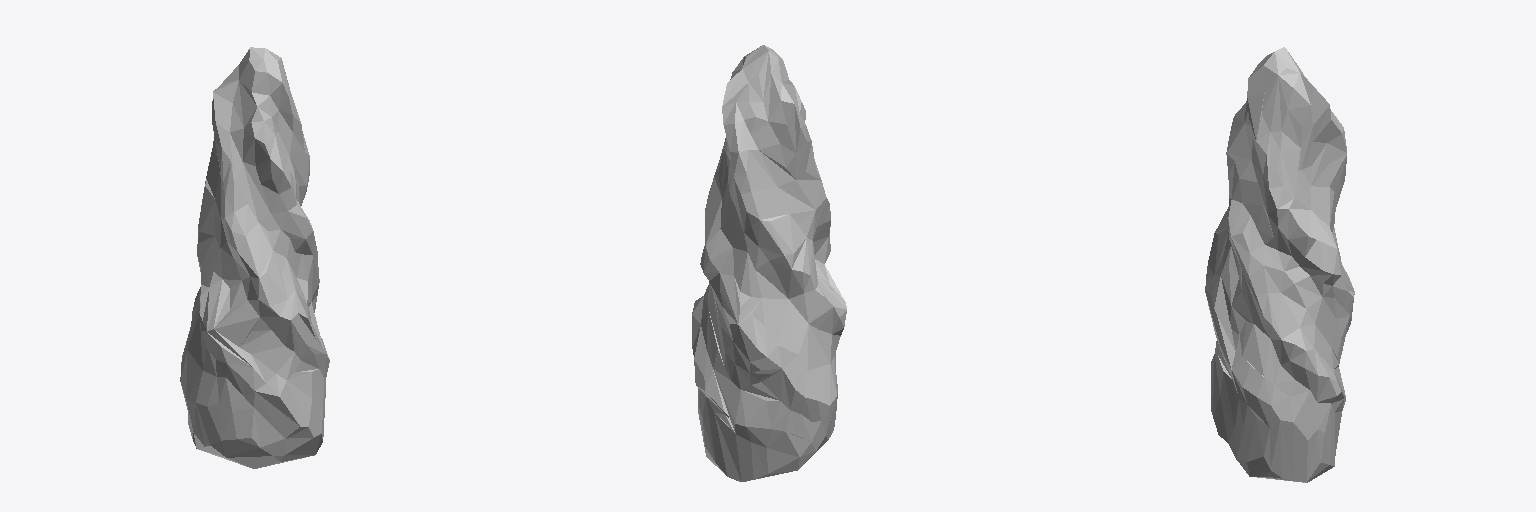
Rendered from Rock03.obj.
3 renders of one model, left to right at view 1: azimuth 30°, elevation 25°; view 2: azimuth 150°, elevation 25°; view 3: azimuth 270°, elevation 25°, orthographic.
Parts seen in each view (by area): view 1: Cube.001; view 2: Cube.001; view 3: Cube.001.
Part boxes in pixels (bbox=[...]): Cube.001: bbox=[180, 47, 329, 468]; Cube.001: bbox=[692, 45, 846, 481]; Cube.001: bbox=[1205, 47, 1354, 482].
Size of the model in its own units: 0.5099 by 1.54 by 0.5022.